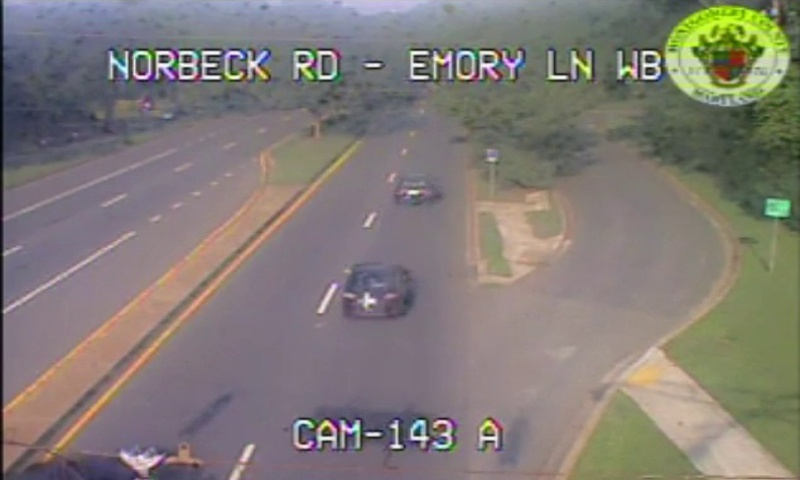car: (341, 264, 406, 317), (393, 176, 436, 204)
